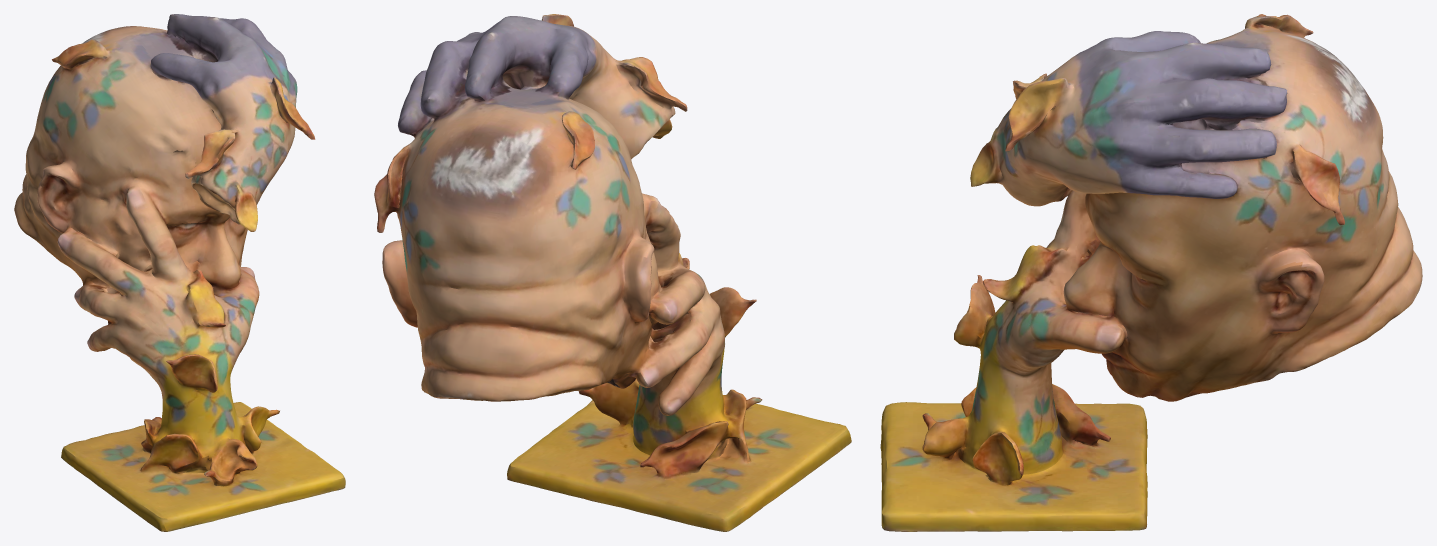
File: ghosh-head-in-fragments.glb
The picture shows the model from 3 angles, left to right: view 1: azimuth 30°, elevation 25°; view 2: azimuth 150°, elevation 25°; view 3: azimuth 270°, elevation 25°; orthographic projection. The views are drawn at different scales.
Visible parts, largest first — view 1: HeadE_LOW; view 2: HeadE_LOW; view 3: HeadE_LOW.
Boxes of the visible parts, <box> form: HeadE_LOW: <box>14,14,345,531</box>; HeadE_LOW: <box>374,14,851,531</box>; HeadE_LOW: <box>880,14,1422,531</box>.
Size of the model in its own units: 12.07 by 18.46 by 18.78.
Materials: 1 (1 with a texture image).
